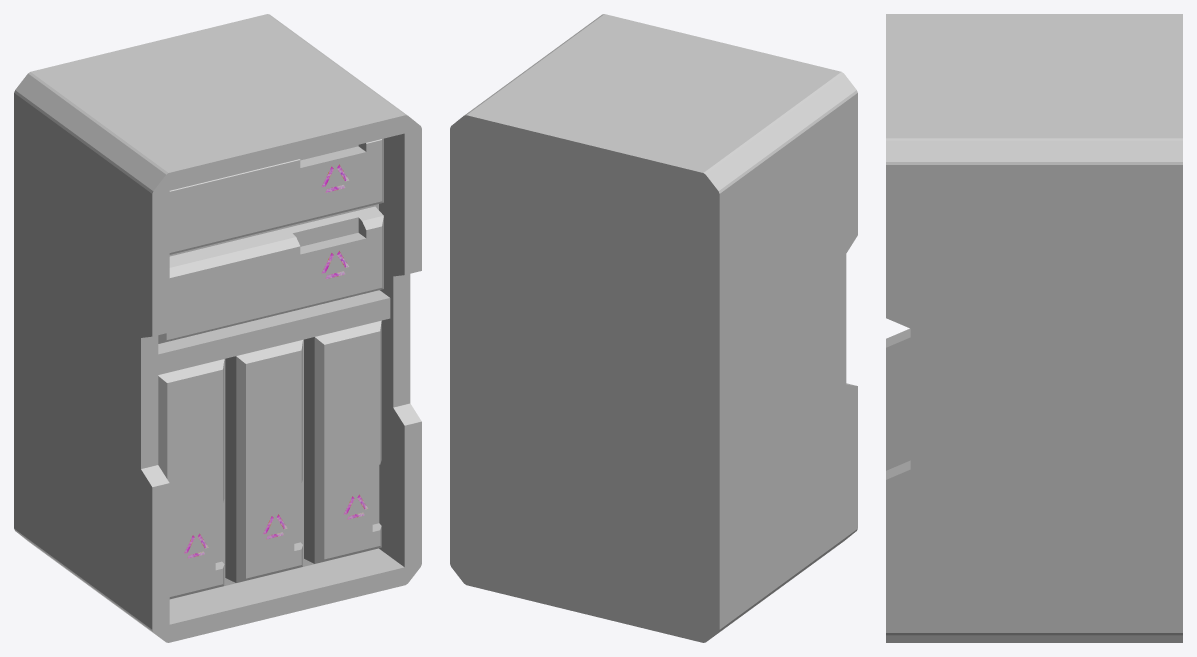
The model's file is locker_04.fbx.
3 views of the same model, side by side, from view 1: azimuth 30°, elevation 25°; view 2: azimuth 150°, elevation 25°; view 3: azimuth 270°, elevation 25° (orthographic). The views are drawn at different scales.
Visible parts, largest first — view 1: Cube.219, Cube.222, Cube.223; view 2: Cube.219; view 3: Cube.219.
Boxes of the visible parts, x1,y1,x2,y2 form: Cube.219: (14, 14, 421, 642); Cube.222: (158, 138, 383, 599); Cube.223: (184, 164, 367, 558); Cube.219: (450, 14, 857, 642); Cube.219: (886, 14, 1182, 642).
Bounding box in the file's own units: 0.75 × 1.25 × 0.6667.
